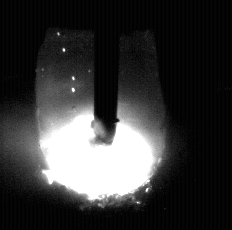arame: (94, 0, 119, 145)
poca: (37, 0, 169, 230)
